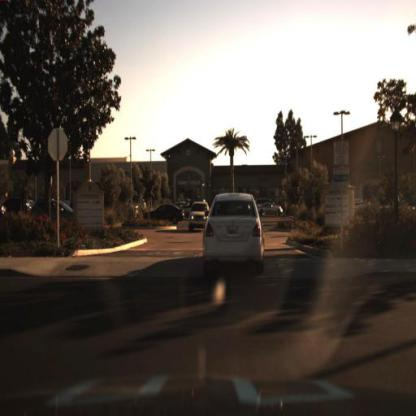car: (202, 191, 267, 267), (30, 200, 88, 233), (144, 204, 187, 229), (189, 200, 213, 234), (259, 202, 287, 222), (179, 204, 193, 222)
